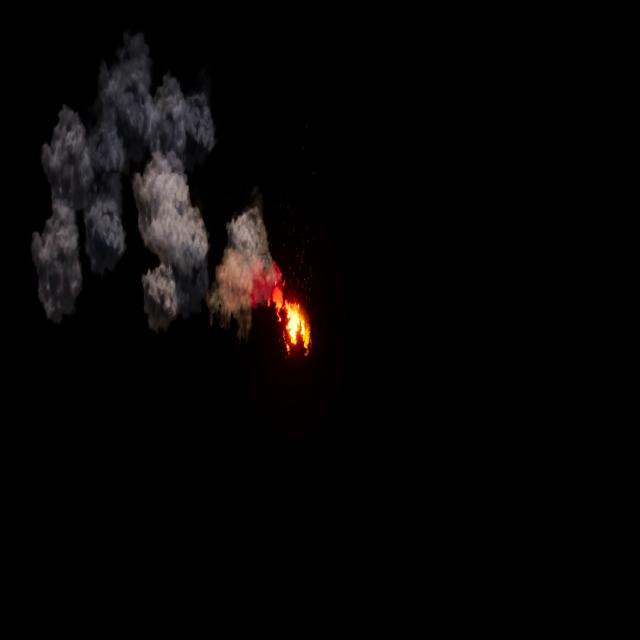fire: (250, 260, 310, 354)
smoke: (30, 39, 274, 311)
